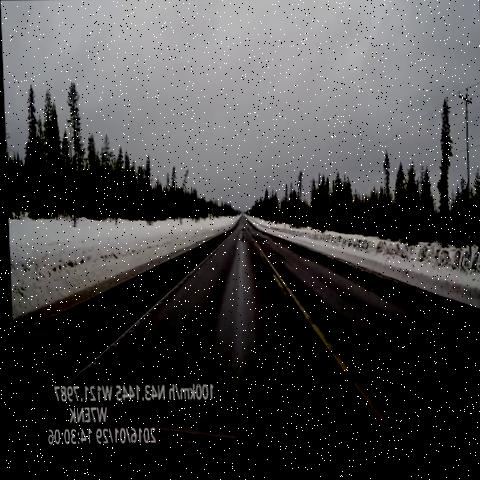pothole: (256, 243, 287, 274), (231, 225, 253, 252), (249, 226, 266, 247)
